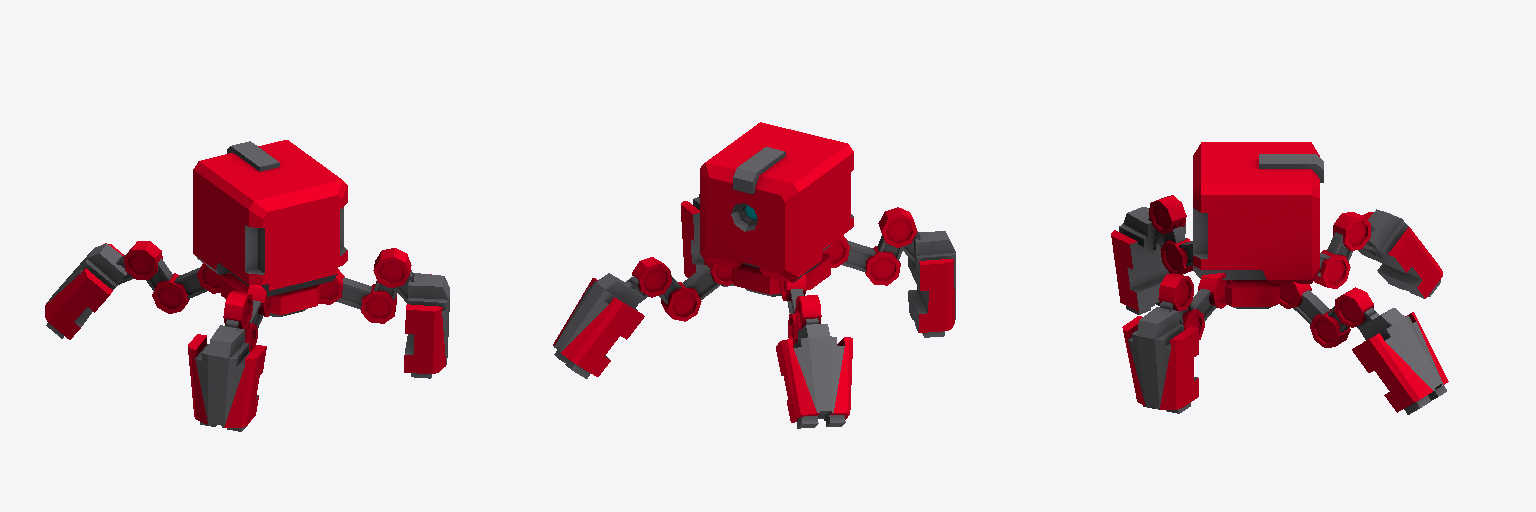
3 renders of one model, left to right at view 1: azimuth 30°, elevation 25°; view 2: azimuth 150°, elevation 25°; view 3: azimuth 270°, elevation 25°, orthographic.
Visible parts, largest first — view 1: Box006, Object021, Object017, Object025, Object020, Object027, Object028, Object018, Object019, Object026, Object024, Object022; view 2: Box006, Object025, Object013, Object021, Object017, Object024, Object016, Object023, Object015, Object022, Object014, Object028 (+1 smaller); view 3: Box006, Object017, Object013, Object021, Object025, Object027, Object016, Object014, Object024, Object020, Object028, Object018 (+2 smaller).
Boxes of the visible parts, x1=… form: Box006: x1=193, y1=140, x2=347, y2=316; Object021: x1=188, y1=325, x2=266, y2=431; Object017: x1=404, y1=273, x2=449, y2=378; Object025: x1=45, y1=243, x2=126, y2=339; Object020: x1=373, y1=248, x2=416, y2=302; Object027: x1=146, y1=258, x2=189, y2=313; Object028: x1=116, y1=241, x2=162, y2=285; Object018: x1=319, y1=269, x2=371, y2=309; Object019: x1=361, y1=281, x2=398, y2=323; Object026: x1=174, y1=263, x2=230, y2=298; Object024: x1=223, y1=291, x2=253, y2=331; Object022: x1=248, y1=285, x2=271, y2=329; Box006: x1=700, y1=122, x2=853, y2=296; Object025: x1=776, y1=324, x2=852, y2=428; Object013: x1=553, y1=273, x2=644, y2=378; Object021: x1=908, y1=231, x2=955, y2=337; Object017: x1=681, y1=194, x2=733, y2=286; Object024: x1=878, y1=207, x2=921, y2=262; Object016: x1=625, y1=257, x2=671, y2=302; Object023: x1=865, y1=235, x2=904, y2=285; Object015: x1=659, y1=275, x2=701, y2=321; Object022: x1=823, y1=235, x2=875, y2=271; Object014: x1=682, y1=262, x2=732, y2=299; Object028: x1=795, y1=295, x2=821, y2=329; Box006: x1=1193, y1=142, x2=1323, y2=308; Object017: x1=1122, y1=307, x2=1198, y2=413; Object013: x1=1352, y1=308, x2=1448, y2=414; Object021: x1=1111, y1=207, x2=1185, y2=314; Object025: x1=1358, y1=209, x2=1442, y2=298; Object027: x1=1314, y1=232, x2=1352, y2=288; Object016: x1=1334, y1=287, x2=1379, y2=328; Object014: x1=1277, y1=282, x2=1329, y2=324; Object024: x1=1148, y1=195, x2=1186, y2=245; Object020: x1=1158, y1=273, x2=1193, y2=320; Object028: x1=1333, y1=212, x2=1376, y2=251; Object018: x1=1191, y1=273, x2=1232, y2=321.
Bounding box in the file's own units: 155 × 100 × 156.
Materials: 1 (1 with a texture image).